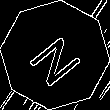N_NE: (23, 24, 87, 86)
